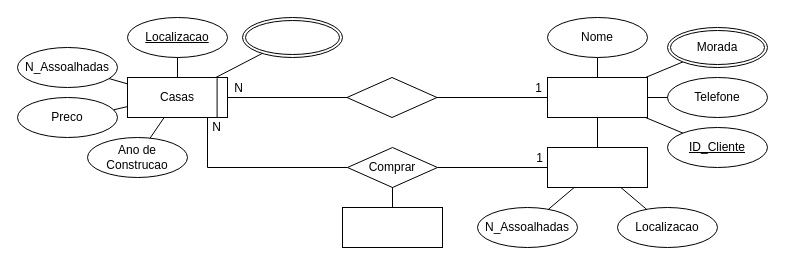
This 785x265 diagram has some shape labels left out. The centre of each missing label's shape, as x and y in pixels:
Clientes: the point at 597,97
Compradores: the point at 597,167
Compras: the point at 392,227
Vender: the point at 391,97
Visitas de Clientes: the point at 292,37
